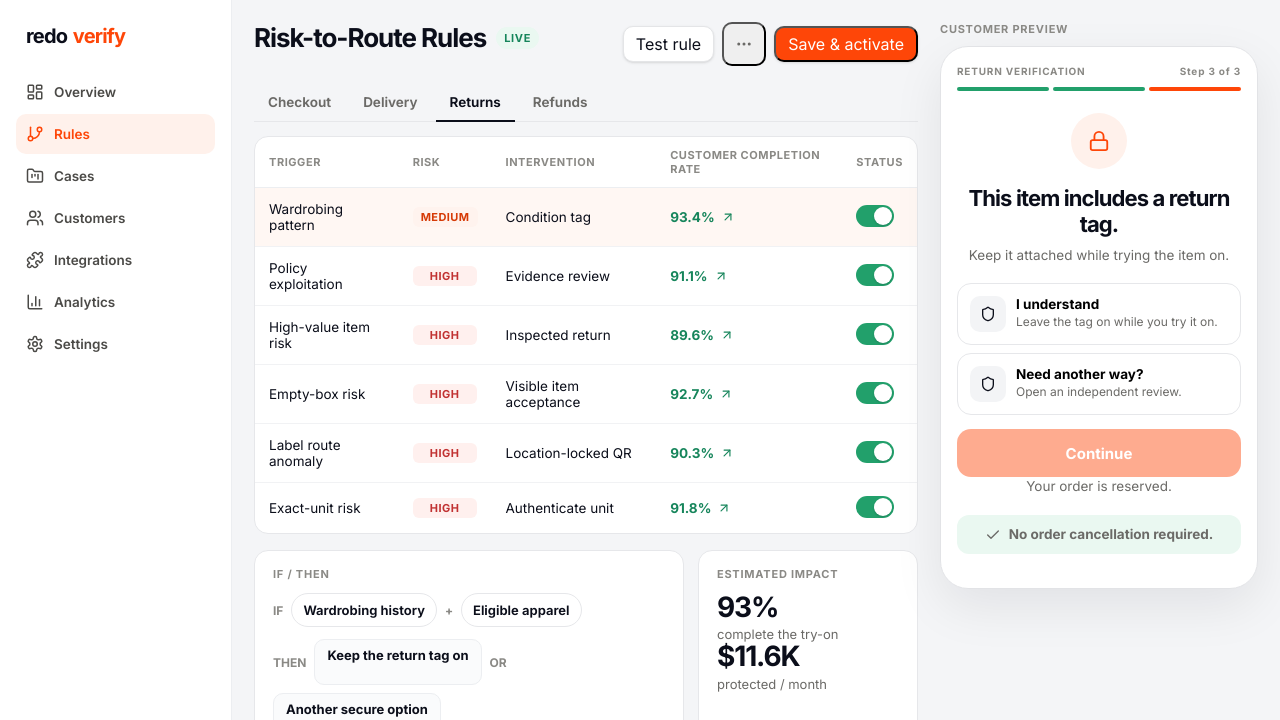
Scenario: interview demo › opens Condition’s second path into Resolve
Expected: the heading "This item includes a return tag." is shown, left=957, top=185, right=1241, bottom=238
What coordinates should you click on to do the following:
click the button "Need another way? Open an independent review."
I would click on:
 (1099, 384)
Its box is left=957, top=353, right=1241, bottom=415.
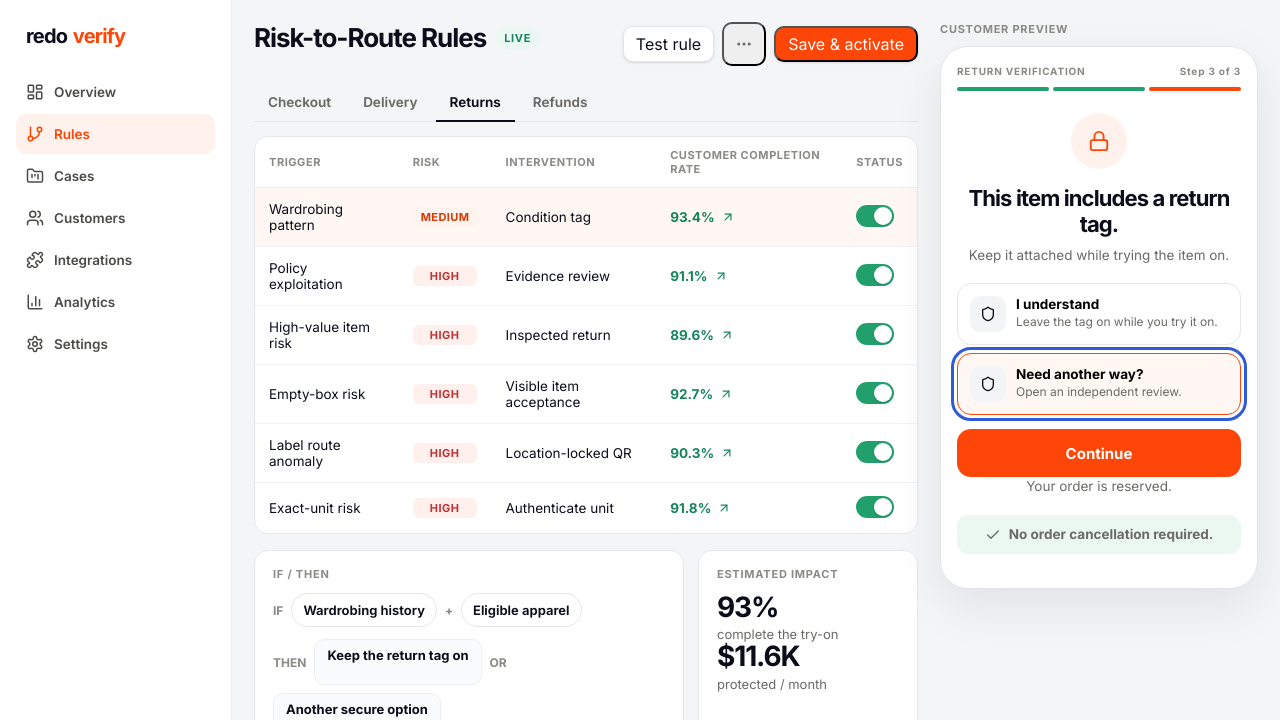
What coordinates should you click on to do the following:
click the button "Continue"
I would click on:
 (1099, 453)
Its box is left=957, top=429, right=1241, bottom=477.
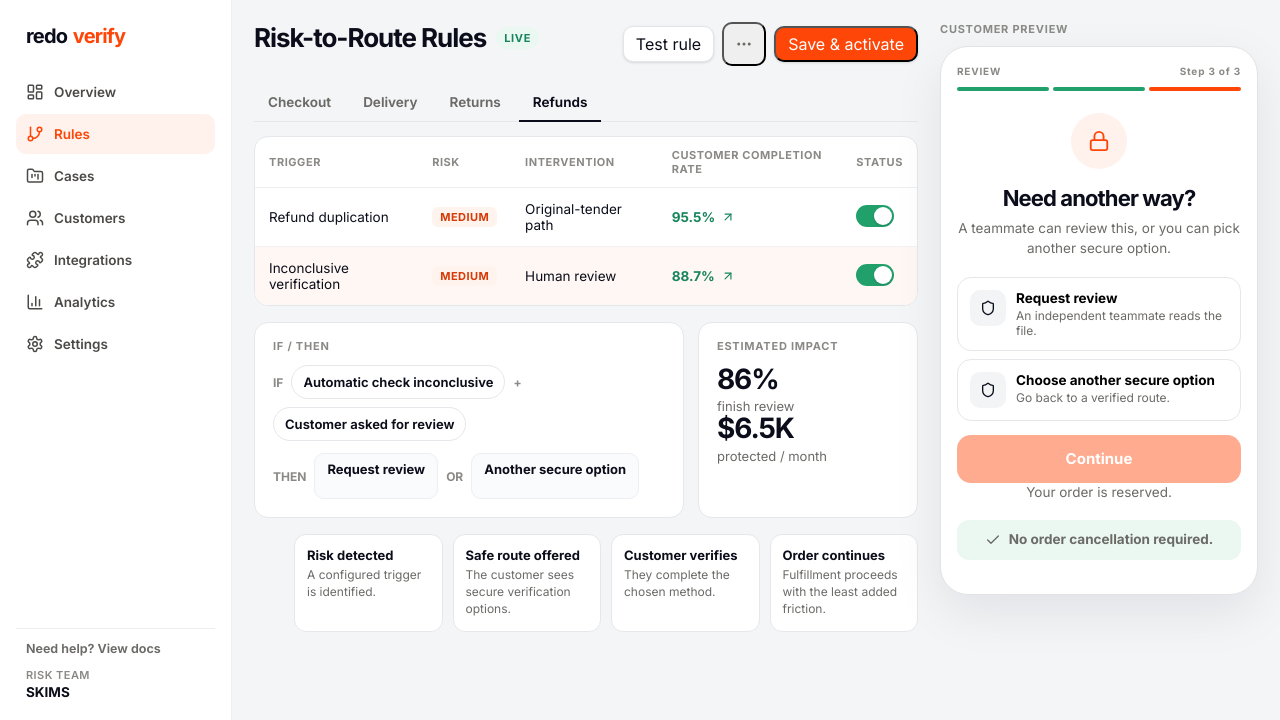
Expected: the heading "Need another way?" is shown, left=1003, top=185, right=1195, bottom=211
Expected: the button "Request review An independent teammate reads the file." is shown, left=957, top=276, right=1241, bottom=350
